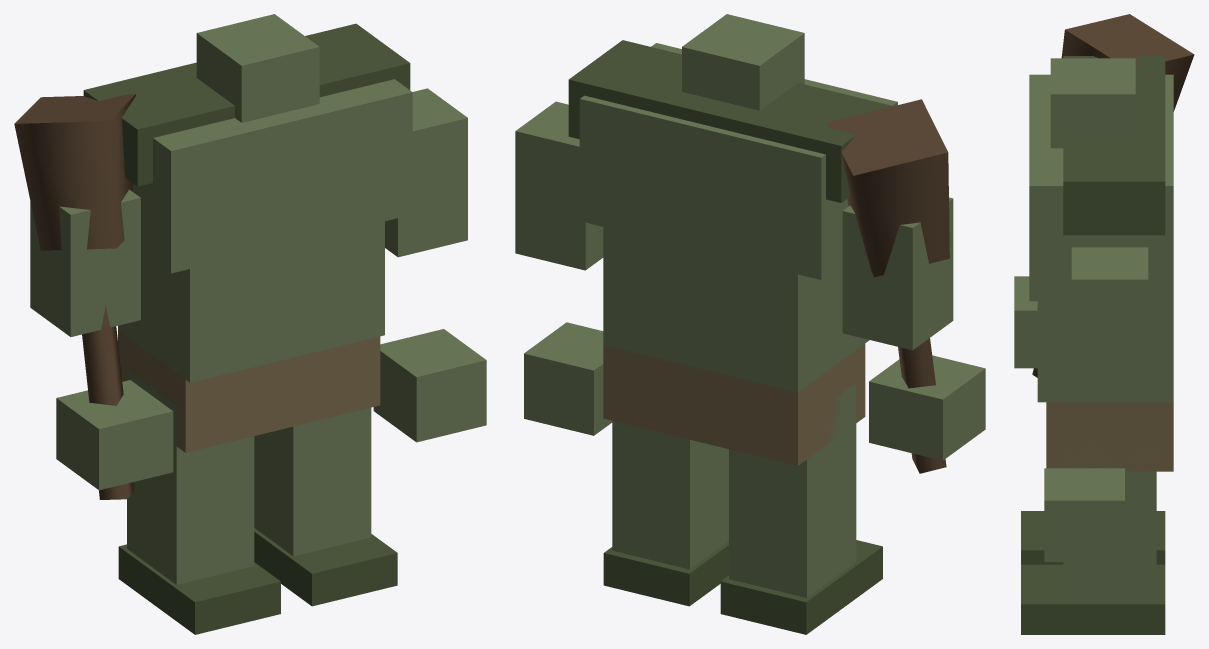
3 views of the same model, side by side, from view 1: azimuth 30°, elevation 25°; view 2: azimuth 150°, elevation 25°; view 3: azimuth 270°, elevation 25° (orthographic). The views are drawn at different scales.
Visible parts, largest first — view 1: survival_behemoth; view 2: survival_behemoth; view 3: survival_behemoth.
Boxes of the visible parts, x1,y1,x2,y2 form: survival_behemoth: [14, 14, 486, 634]; survival_behemoth: [515, 14, 985, 634]; survival_behemoth: [1014, 14, 1194, 634].
Size of the model in its own units: 5.48 by 6.65 by 2.12.
